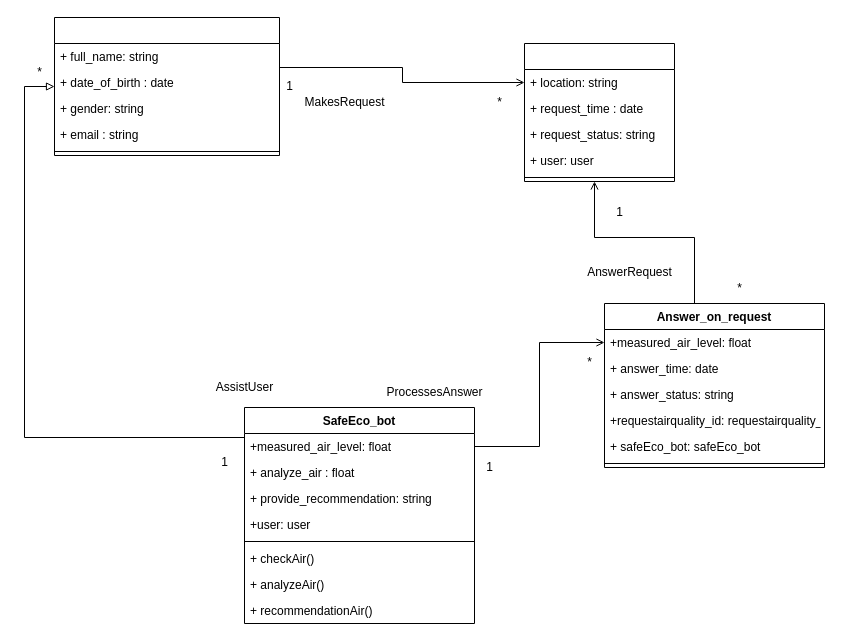
Some shapes in this 848 by 644 pixel diagram are drawn without their labels. Here are the shapes that lost their labels. From the top down, the box of each, then its label:
(54, 16, 280, 156): User
(524, 42, 674, 182): Request_air_level
